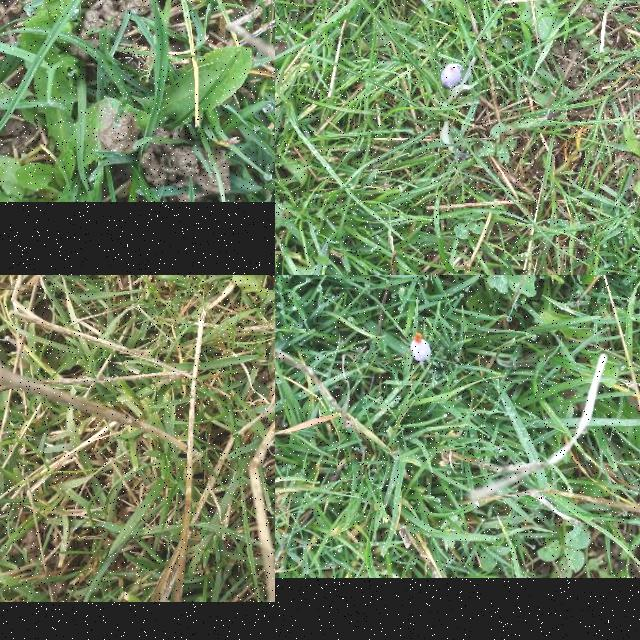flower: (412, 333, 432, 361), (441, 64, 462, 88)
